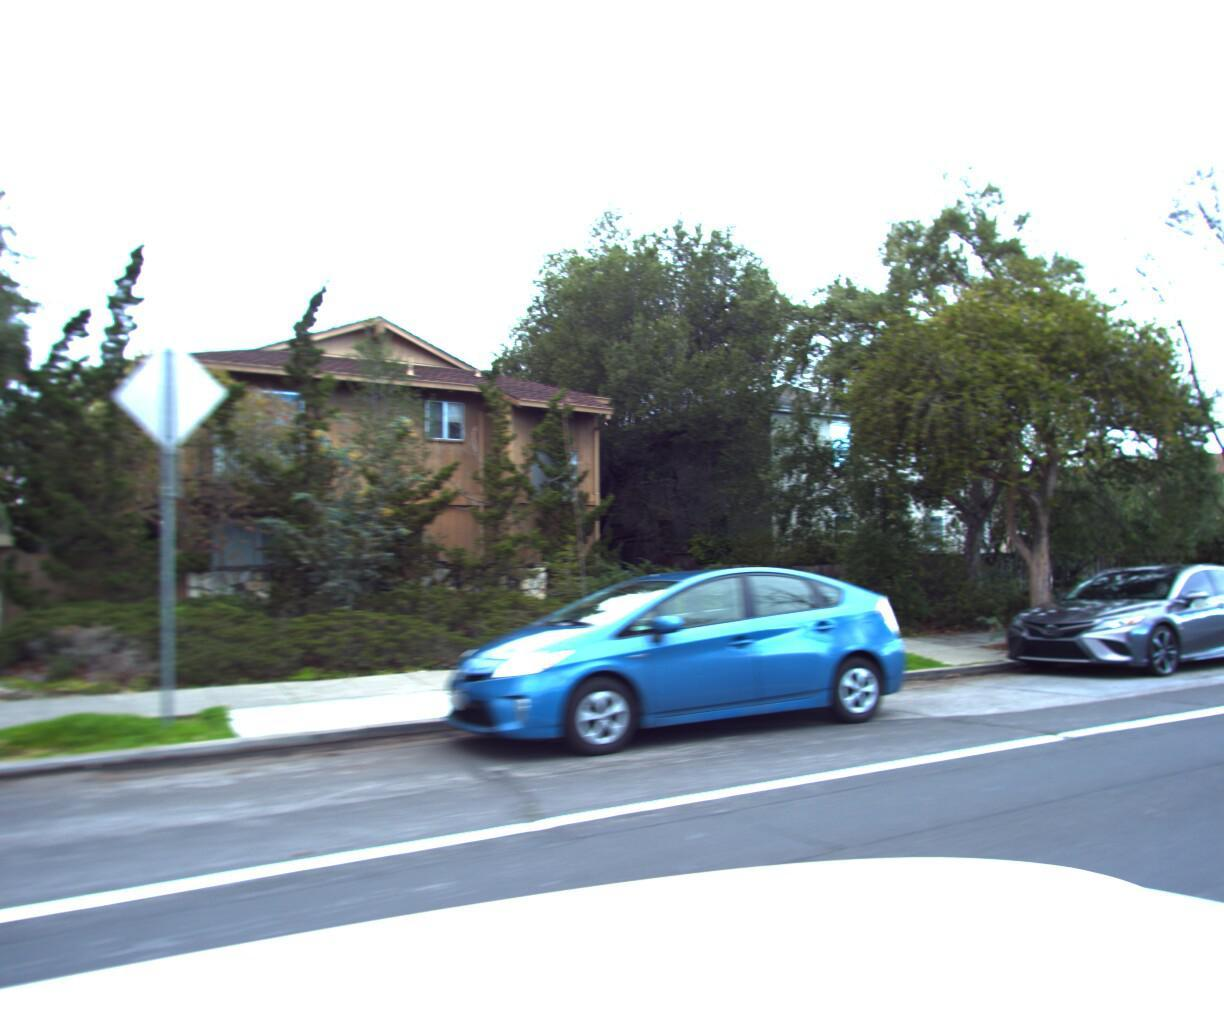car: (429, 556, 943, 774), (990, 555, 1224, 682)
